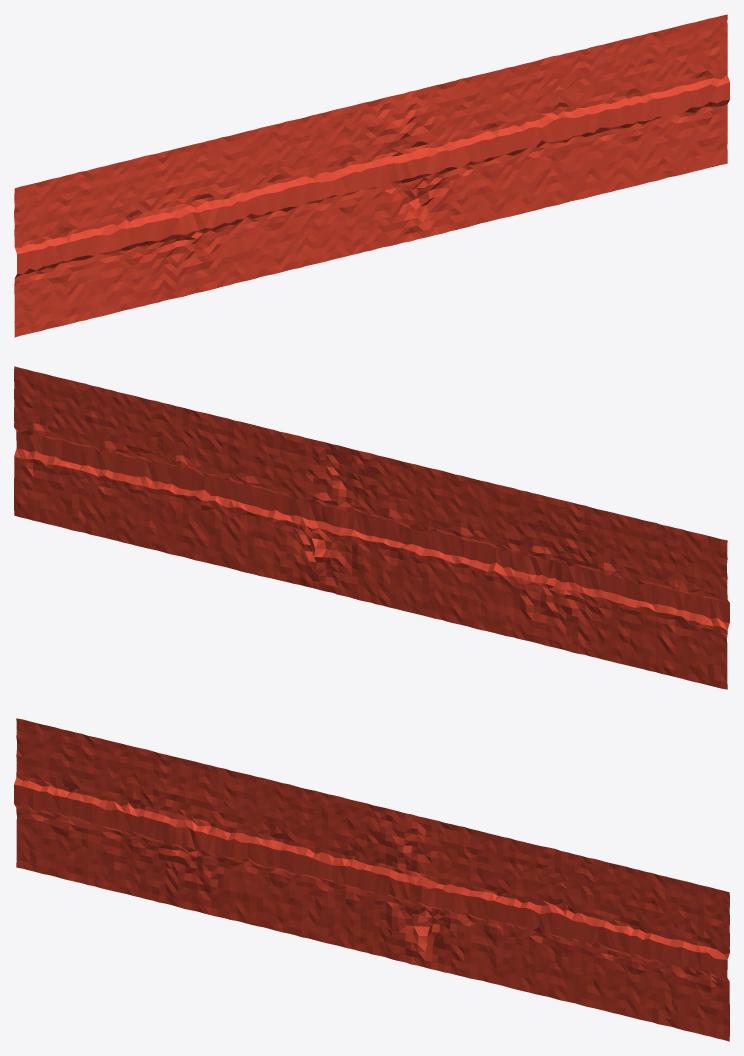
The model's file is Piece of ground.fbx.
The picture shows the model from 3 angles, top to bottom: view 1: azimuth 30°, elevation 25°; view 2: azimuth 150°, elevation 25°; view 3: azimuth 330°, elevation 25°; orthographic projection.
Parts seen in each view (by area): view 1: Plane.006; view 2: Plane.006; view 3: Plane.006.
Part boxes in pixels (x1,y1,x2,y2): Plane.006: (14,14,729,337); Plane.006: (14,366,729,689); Plane.006: (14,718,729,1041).
Size of the model in its own units: 100 by 20.08 by 2.06.
